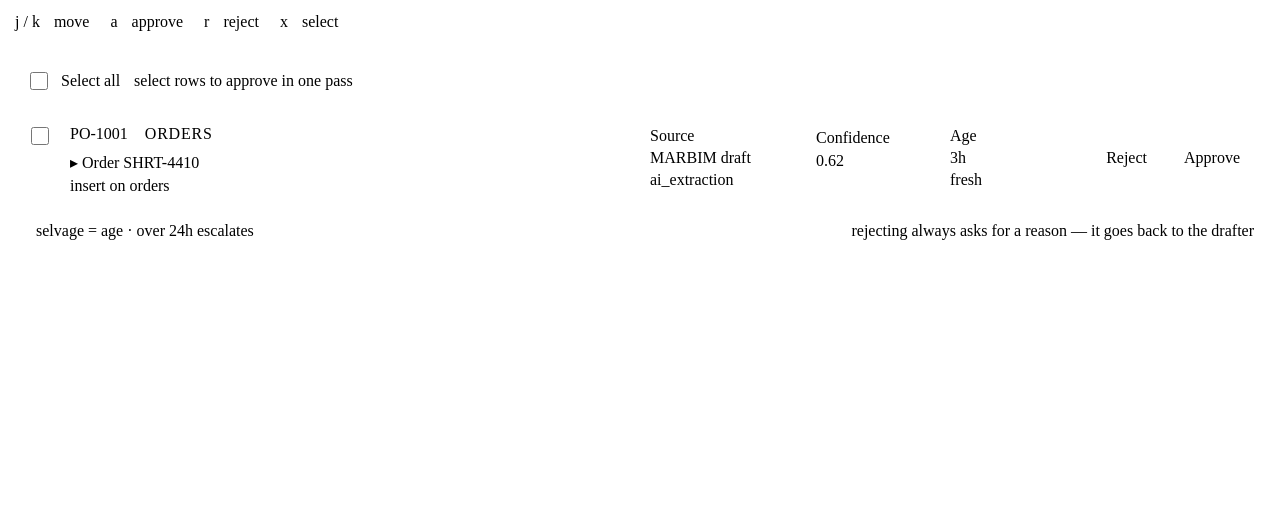
it: a reviewer can correct a field before signing › shows whose hands the draft has passed through — the trail a countersignature is for
What coordinates should you click on to do the following:
click the button "▸ Order SHRT-4410"
I would click on:
 (141, 162)
Its box is [70, 153, 634, 172].
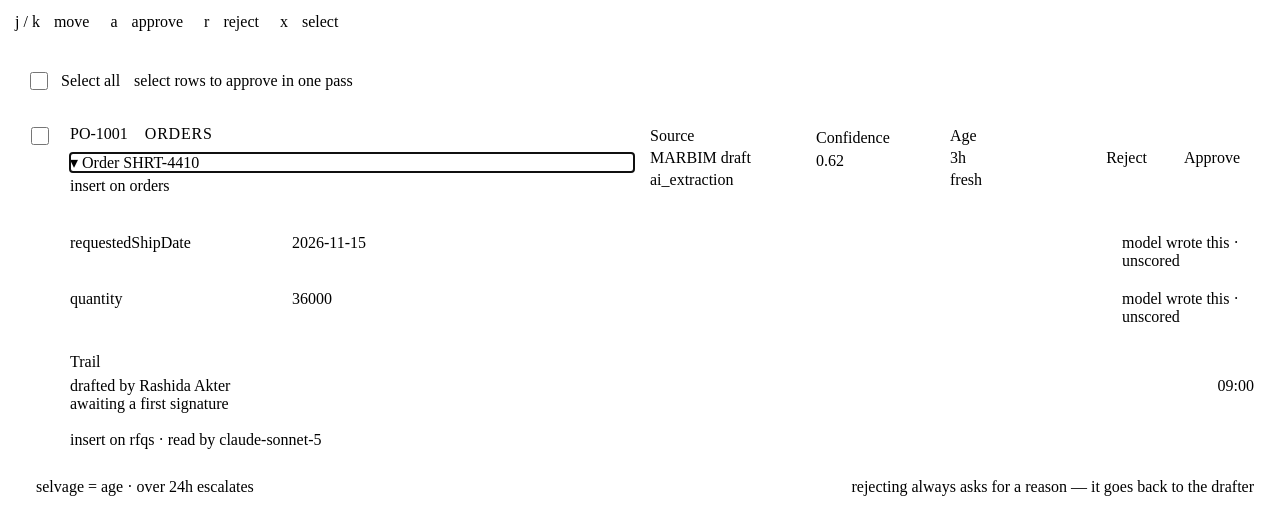
Expected: the field named "requestedShipDate" is shown, [284, 230, 500, 256]
Expected: the text "drafted by Rashida Akter" is shown, [70, 377, 230, 395]
Expected: the text "awaiting a first signature" is shown, [70, 395, 229, 413]
